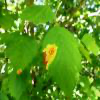Apple rust leaf: (40, 23, 84, 98), (6, 30, 39, 79)
